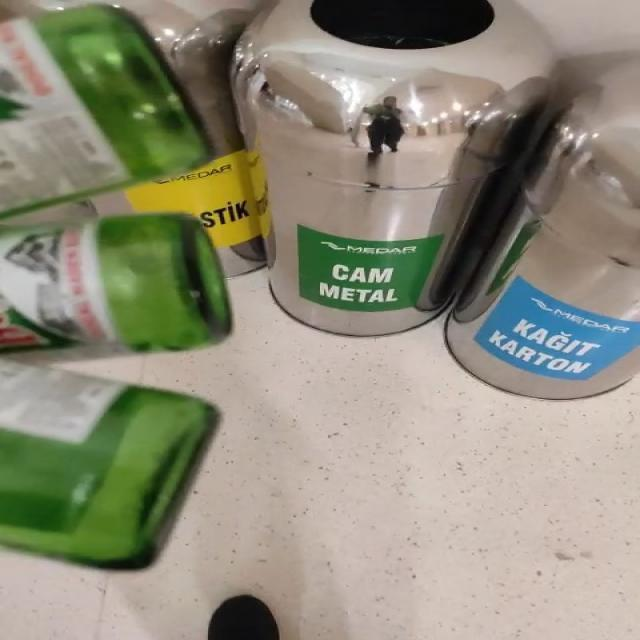Bin: (232, 0, 555, 336)
Glass: (1, 360, 216, 569), (0, 4, 209, 215), (0, 213, 231, 360)
